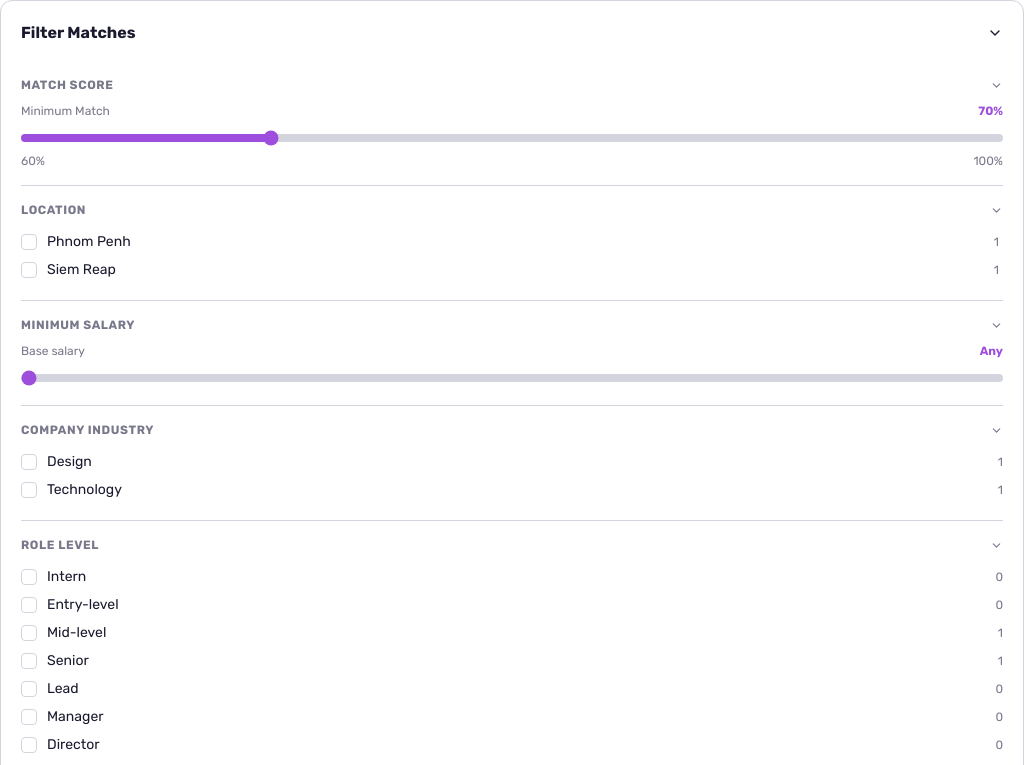
JobRecommendationFilters collapsible panel › collapses its own sub-sections
This screenshot has width=1024, height=765.
Click the button "Match Score" at x=67, y=85, box [15,75,1009,95]
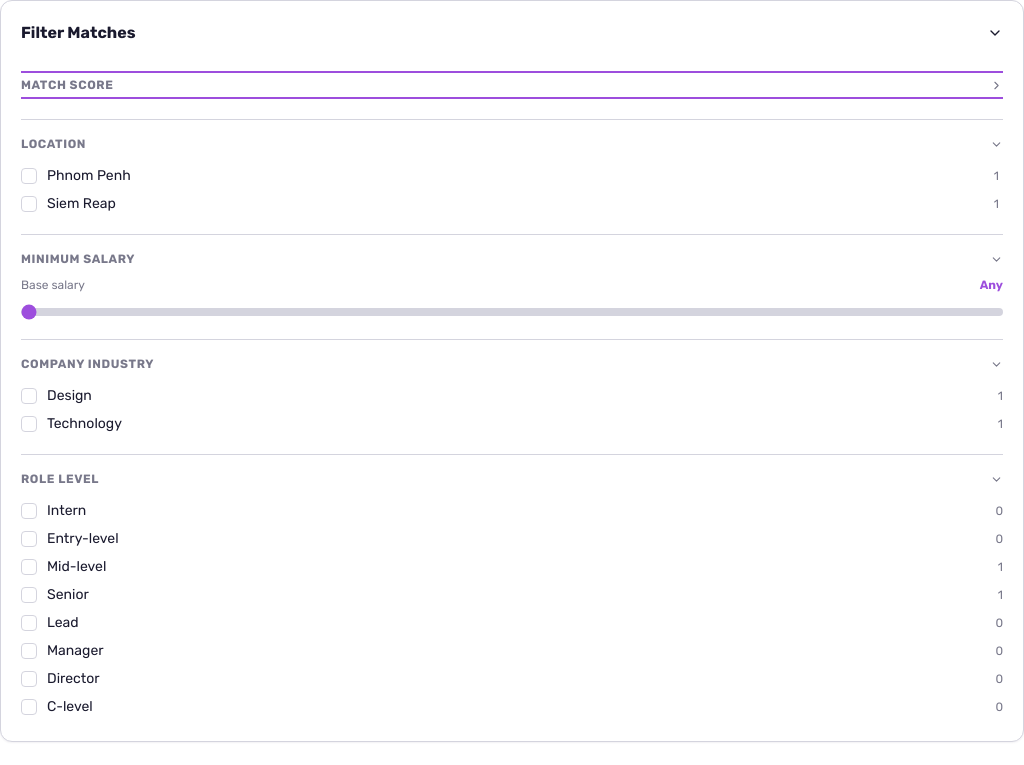
Expected: the button "Match Score" is collapsed, [21,75,1003,95]
